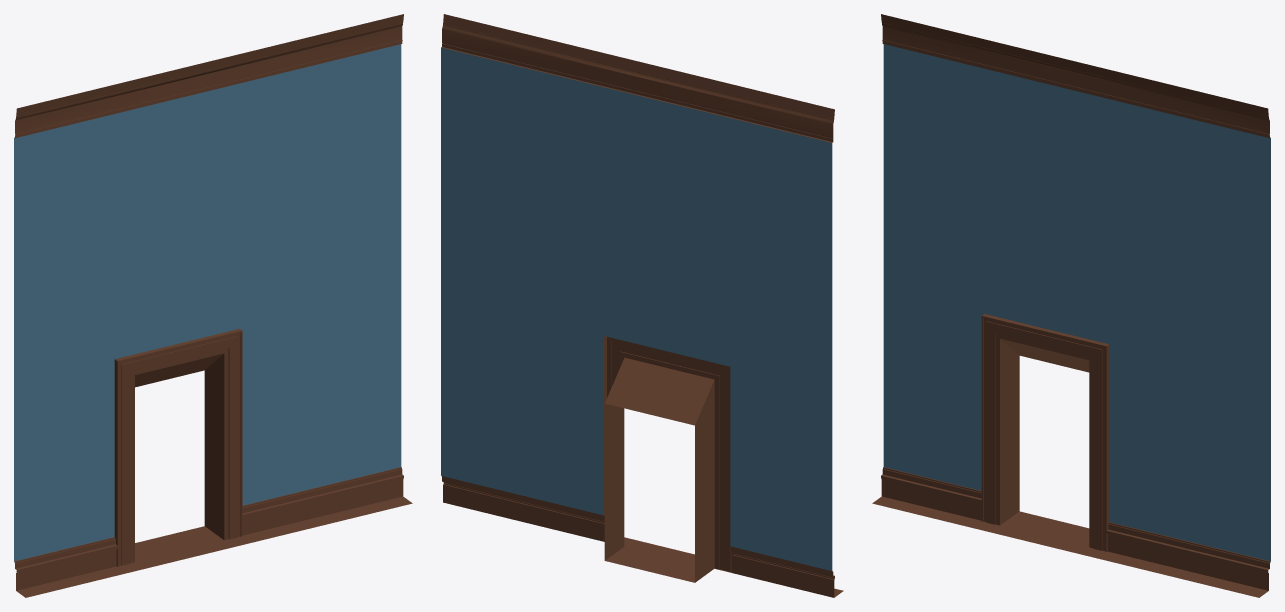
Rendered from Tile04_fix.fbx.
The picture shows the model from 3 angles, left to right: view 1: azimuth 30°, elevation 25°; view 2: azimuth 150°, elevation 25°; view 3: azimuth 330°, elevation 25°; orthographic projection.
Visible parts, largest first — view 1: Tile4; view 2: Tile4; view 3: Tile4.
Part boxes in pixels (x1,y1,x2,y2): Tile4: (14,14,412,597); Tile4: (441,14,843,597); Tile4: (872,14,1270,597).
Bounding box in the file's own units: 650 × 775 × 83.87.
